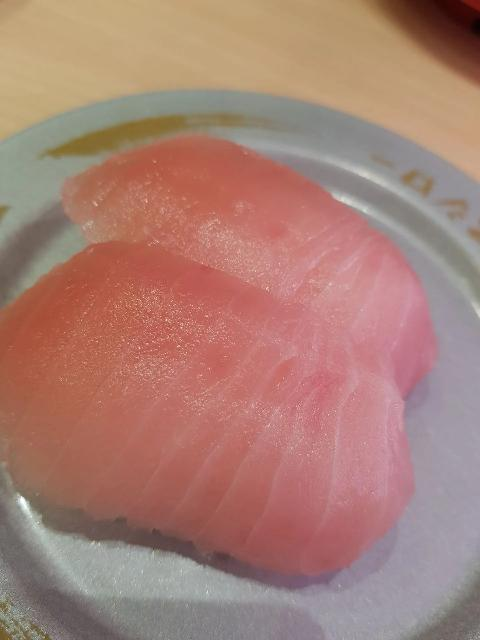janwhite: (2, 89, 480, 640)
